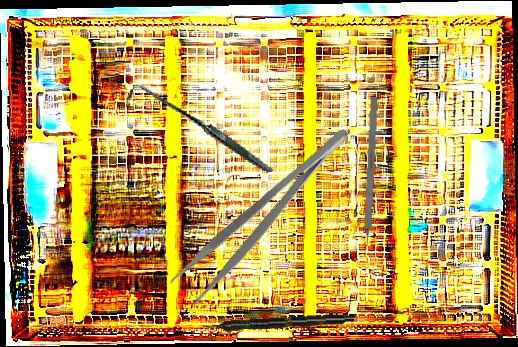Dressing Forceps: (165, 121, 368, 310)
Handpiece: (202, 312, 355, 333)
Hook Surgical: (125, 56, 273, 206), (361, 96, 379, 260)
